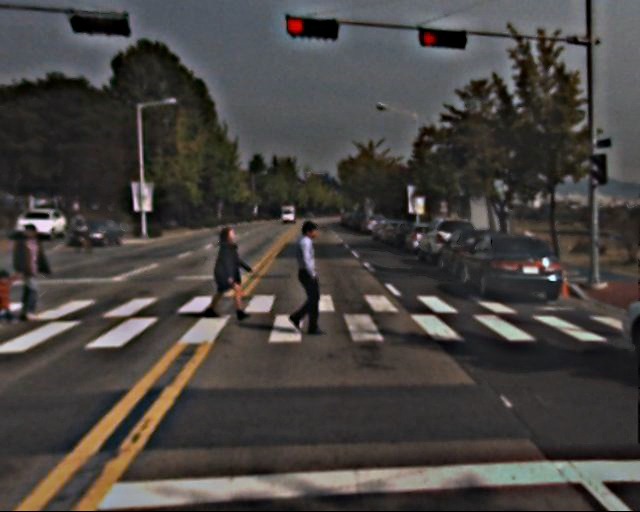person: (283, 219, 335, 337), (10, 217, 63, 320), (205, 221, 250, 321)
